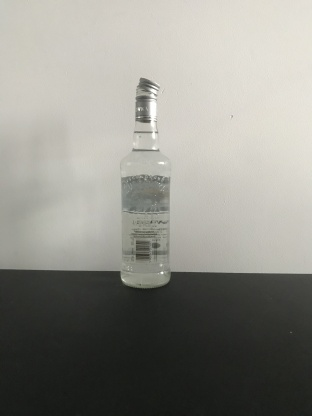nakretka: (133, 75, 161, 123)
